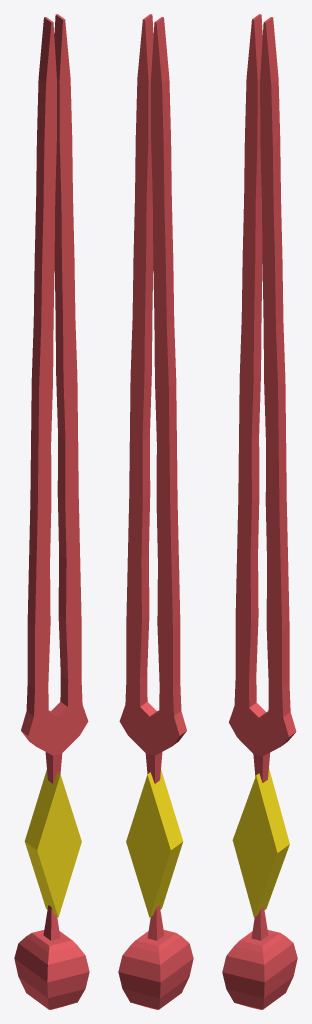
File: HaiPin.fbx
3 views of the same model, side by side, from view 1: azimuth 30°, elevation 25°; view 2: azimuth 150°, elevation 25°; view 3: azimuth 330°, elevation 25° (orthographic).
Visible parts, largest first — view 1: HairPi; view 2: HairPi; view 3: HairPi.
Part boxes in pixels (x1,y1,x2,y2): HairPi: (14,14,89,1009); HairPi: (118,14,193,1009); HairPi: (222,14,297,1009).
Bounding box in the file's own units: 28.09 × 440 × 26.76.
